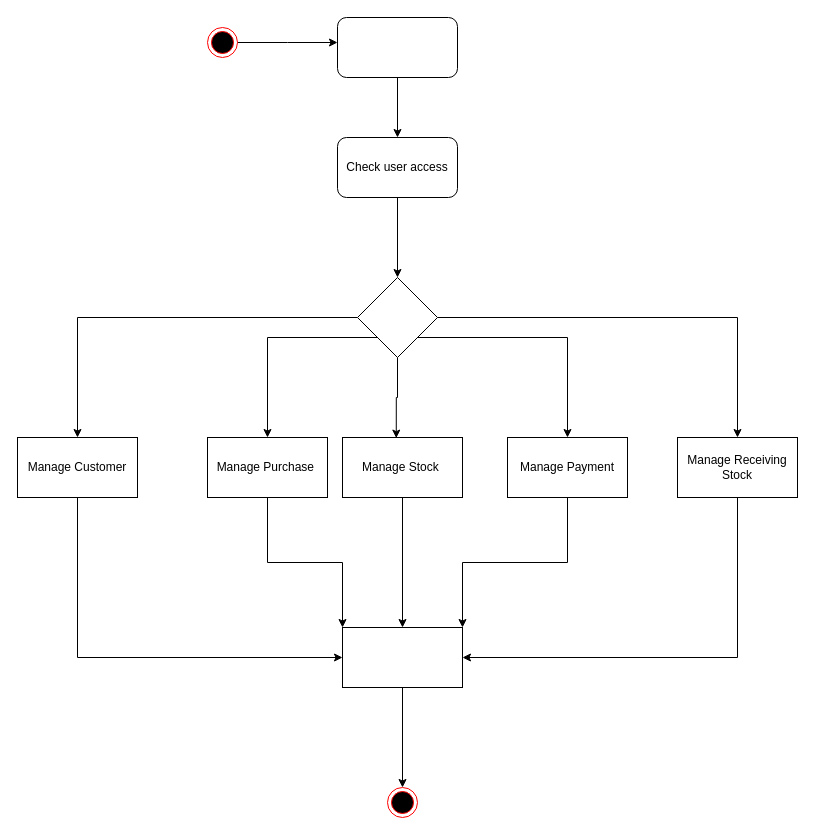
This 815x835 diagram has some shape labels left out. Here are the shapes that lost their labels. From the top down, the centre of each, then its label:
At (x=397, y=47): "Login to inventory management system".
At (x=397, y=317): "Check Permission".
At (x=402, y=657): "Logout from the system".
